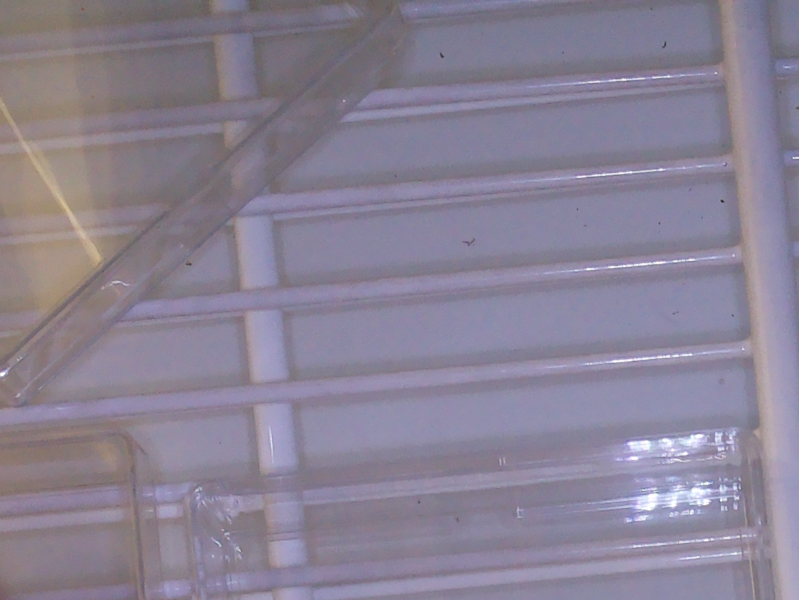plate: (1, 1, 429, 408), (189, 426, 773, 600), (1, 426, 158, 600)
